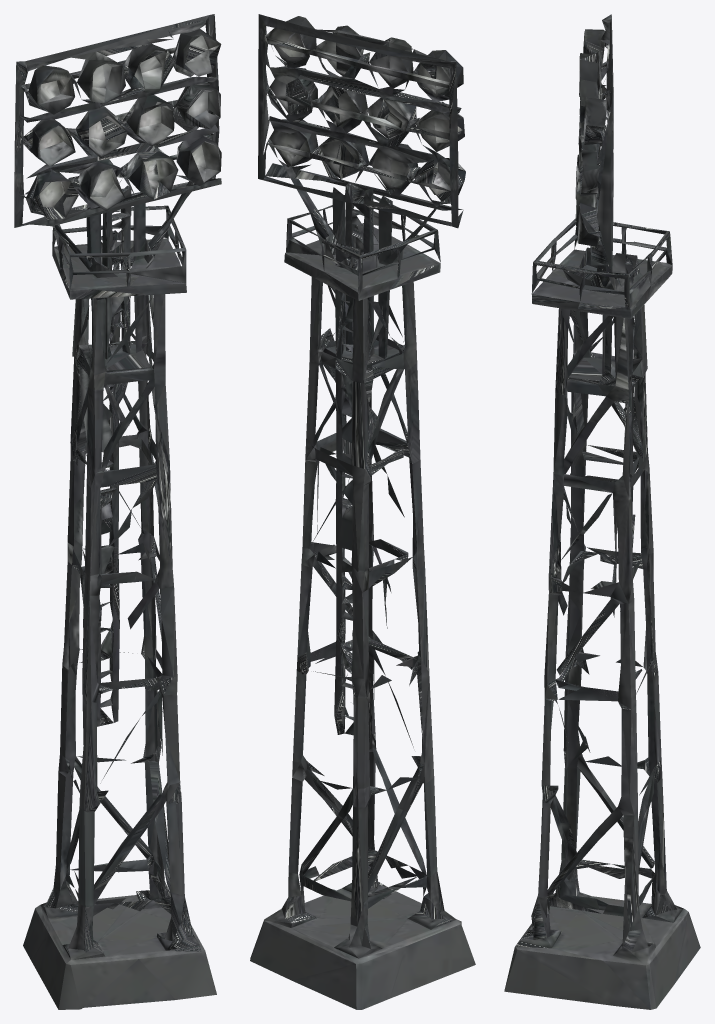
File: floodlight.glb
3 views of the same model, side by side, from view 1: azimuth 30°, elevation 25°; view 2: azimuth 150°, elevation 25°; view 3: azimuth 270°, elevation 25° (orthographic). The views are drawn at different scales.
Parts seen in each view (by area): view 1: Mesh_0; view 2: Mesh_0; view 3: Mesh_0.
Part boxes in pixels (x1,y1,x2,y2): Mesh_0: (14, 14, 221, 1009); Mesh_0: (250, 14, 475, 1009); Mesh_0: (504, 14, 700, 1009).
Bounding box in the file's own units: 0.4306 × 1.9 × 0.3732.
1 material, 1 textured.
